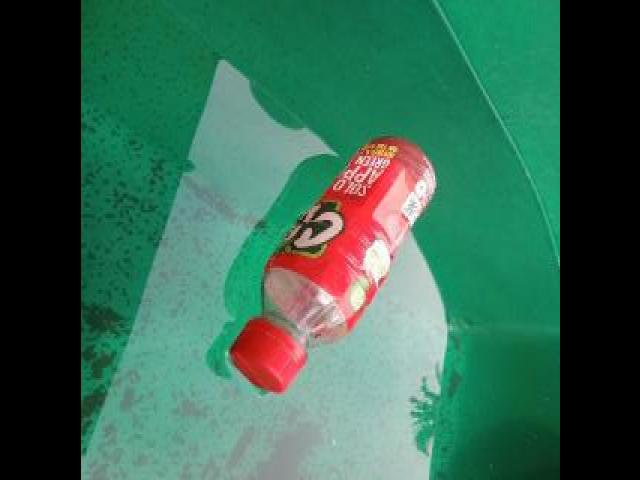Bottle: (219, 128, 442, 403)
